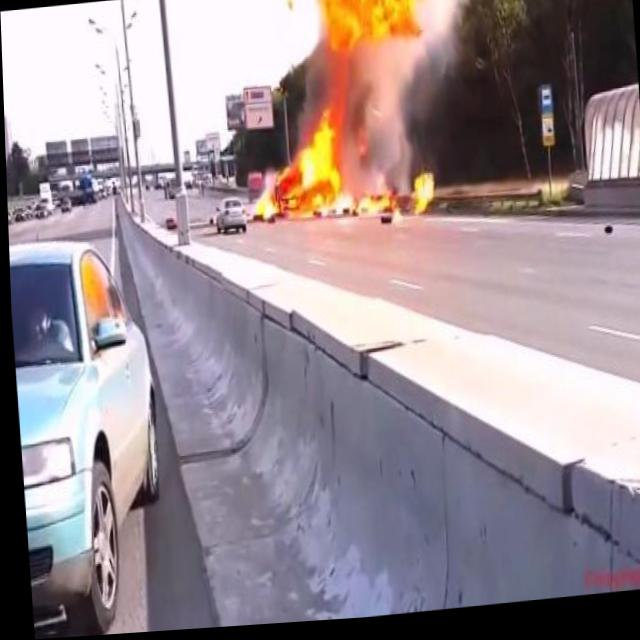fire: (236, 0, 453, 240)
